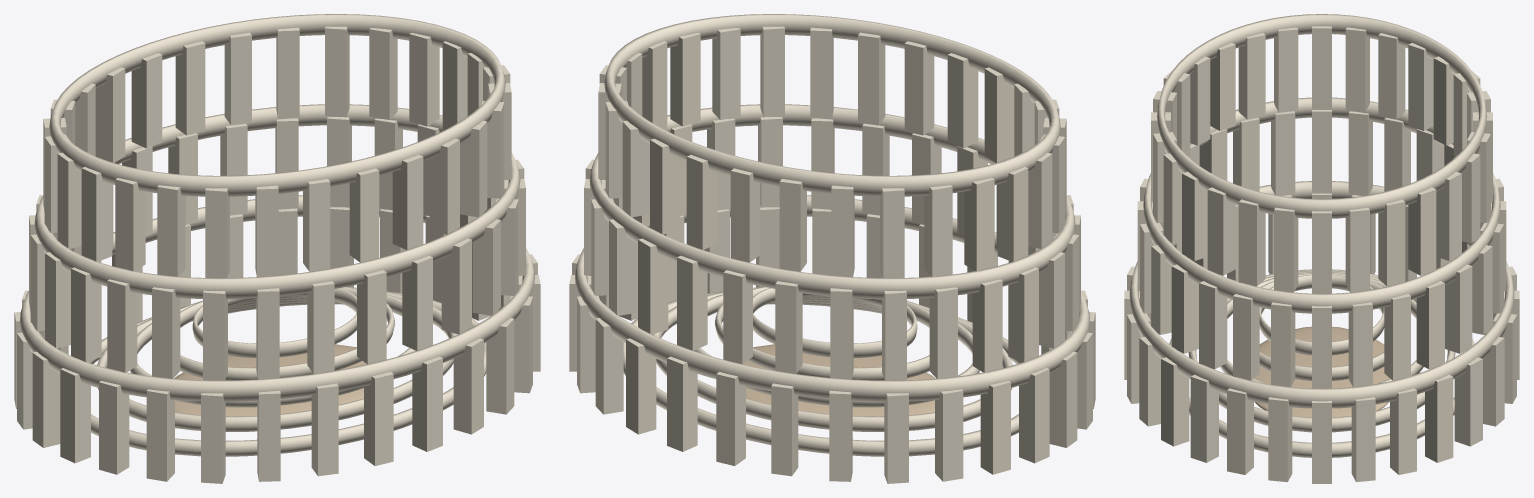
The model's file is colosseum.glb.
3 renders of one model, left to right at view 1: azimuth 30°, elevation 25°; view 2: azimuth 150°, elevation 25°; view 3: azimuth 270°, elevation 25°, orthographic. The views are drawn at different scales.
Parts seen in each view (by area): view 1: Cube; view 2: Cube; view 3: Cube.
Boxes of the visible parts, x1,y1,x2,y2 form: Cube: (14, 14, 540, 483); Cube: (569, 14, 1095, 483); Cube: (1124, 14, 1519, 483).
Bounding box in the file's own units: 0.6 × 0.3572 × 0.4638.
